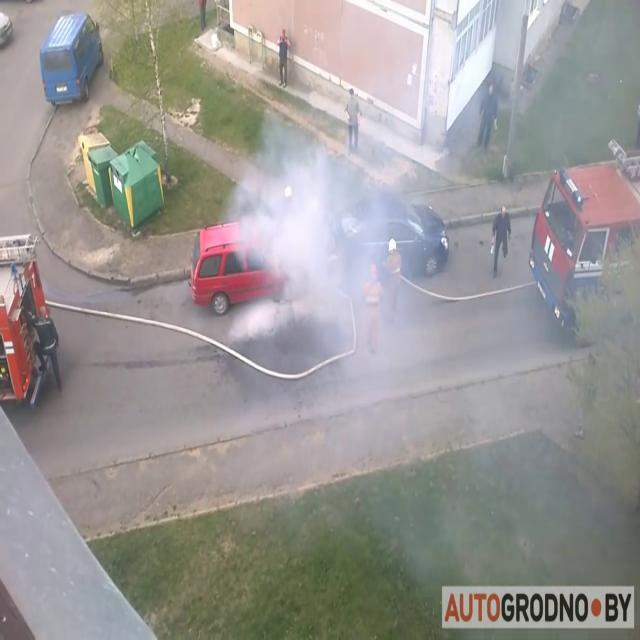Smoke: (220, 104, 452, 324)
